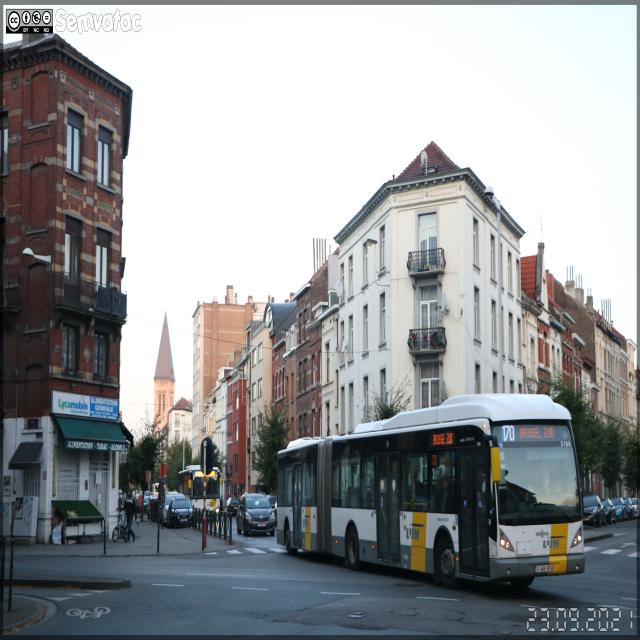bus-number: (502, 425, 516, 442)
